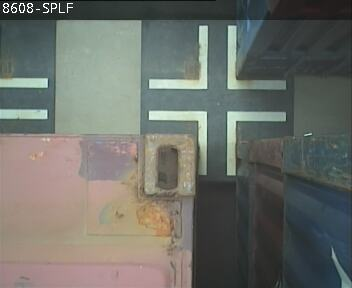groundmarker_1: (147, 111, 287, 174), (148, 26, 287, 89)
